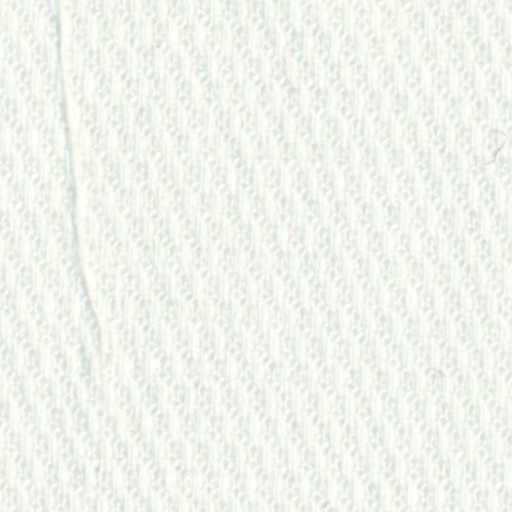DuanSha: (40, 2, 125, 358)
